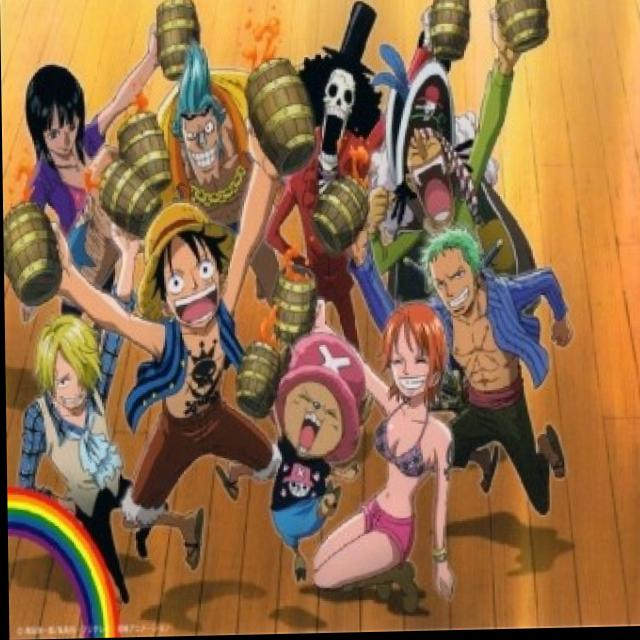Blook: (289, 0, 394, 177)
Chyopa: (233, 322, 392, 472)
Franky: (157, 42, 250, 191)
Luffy: (115, 199, 260, 341)
Nami: (360, 304, 463, 408)
NicoRobin: (20, 48, 110, 177)
Sangdi: (19, 307, 112, 430)
Usopp: (379, 115, 498, 233)
Zoro: (417, 227, 500, 317)
